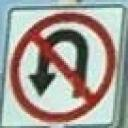NoVirarU: (12, 11, 116, 123)
